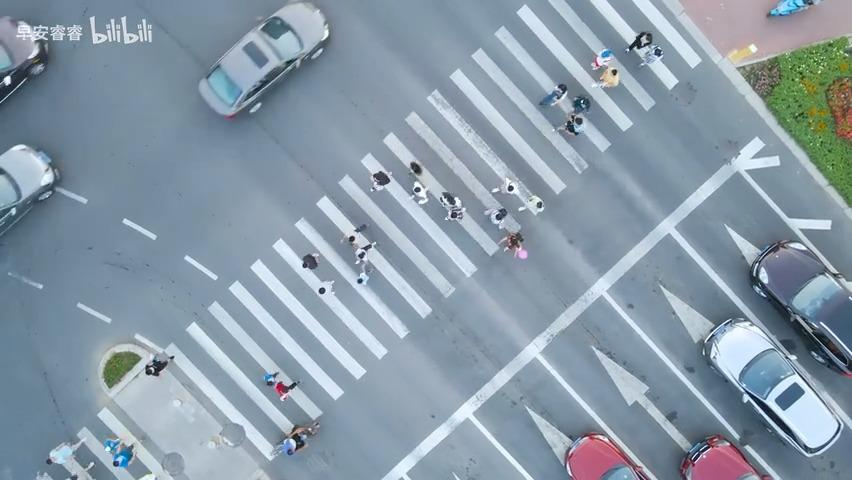Civilian: (46, 437, 95, 479), (768, 0, 821, 16), (552, 113, 584, 136), (439, 192, 464, 221), (497, 231, 524, 257), (624, 30, 652, 54), (538, 83, 567, 106), (145, 354, 175, 376), (282, 430, 308, 455), (340, 222, 369, 244), (112, 443, 137, 468), (590, 67, 619, 88), (638, 44, 664, 67), (517, 194, 545, 215), (353, 240, 377, 264), (274, 379, 300, 401), (287, 420, 320, 437), (483, 206, 507, 229), (590, 48, 613, 70), (369, 170, 392, 191), (410, 180, 429, 205), (490, 176, 516, 194), (571, 94, 590, 115), (144, 353, 160, 375), (301, 252, 320, 270), (103, 437, 123, 453), (439, 191, 459, 207), (356, 267, 373, 285), (353, 222, 369, 241), (282, 435, 296, 455), (318, 279, 335, 295), (263, 371, 279, 385), (408, 160, 422, 175)
